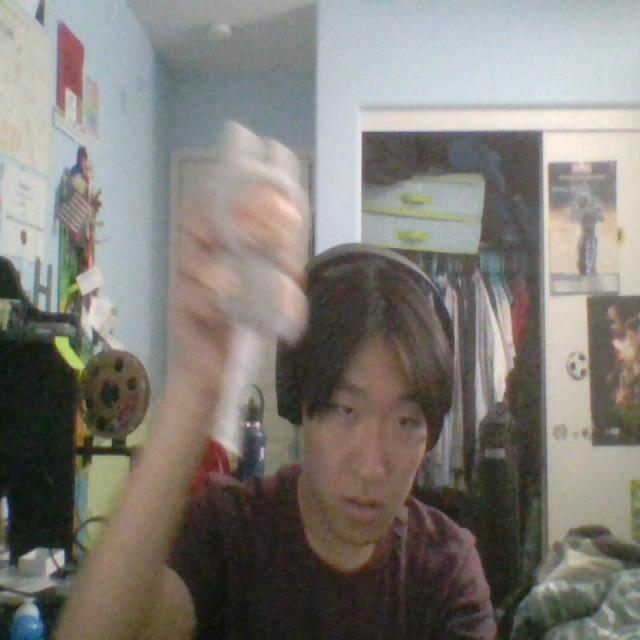labubu: (212, 123, 308, 343)
